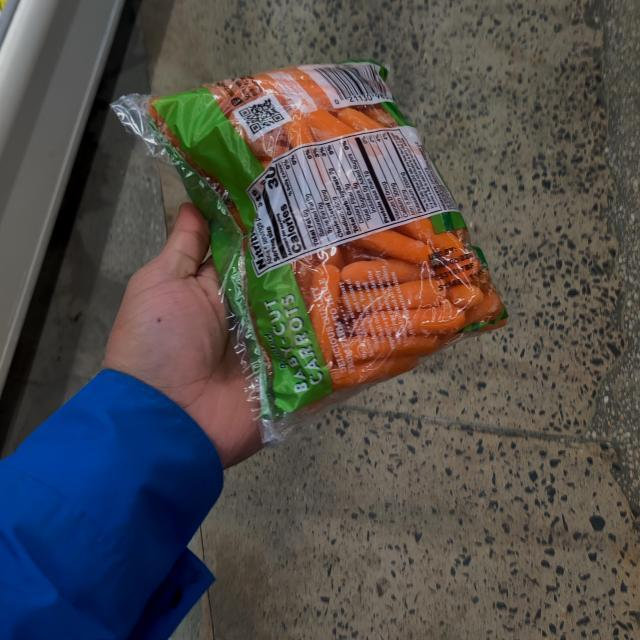carrot: (124, 63, 518, 430)
